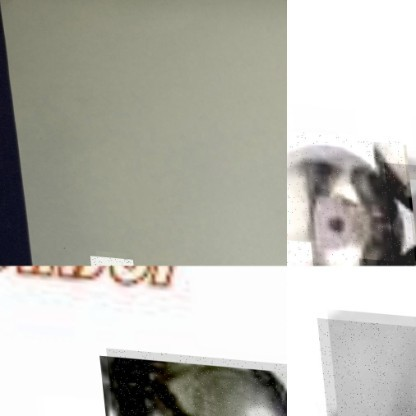ironball: (286, 122, 412, 265), (101, 344, 286, 415), (314, 316, 415, 415), (379, 156, 415, 265), (83, 253, 129, 265)
